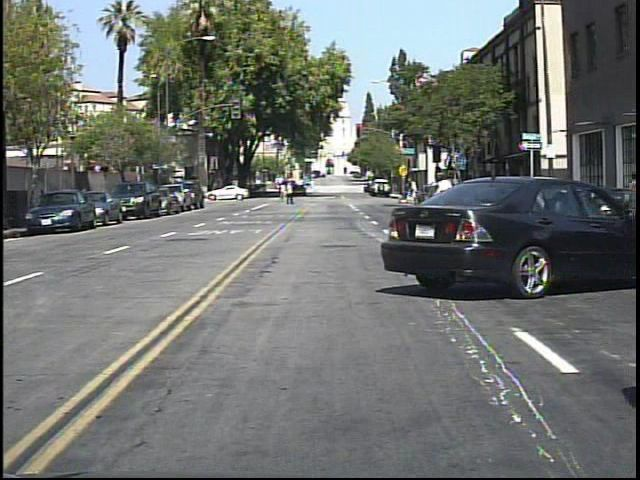person: (430, 162, 463, 250), (525, 169, 544, 225), (284, 177, 299, 209), (407, 175, 420, 207)
